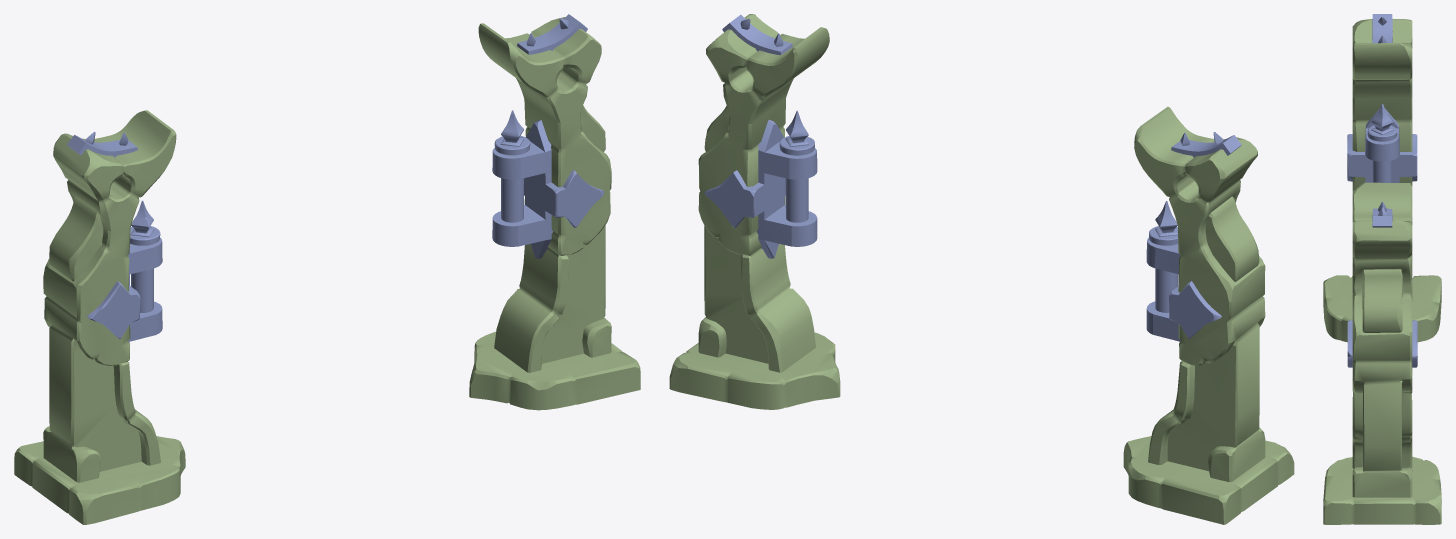
File: SM_Fence_Door_3.fbx
3 views of the same model, side by side, from view 1: azimuth 30°, elevation 25°; view 2: azimuth 150°, elevation 25°; view 3: azimuth 270°, elevation 25° (orthographic). The views are drawn at different scales.
Parts seen in each view (by area): view 1: SM_Fence_Door_3; view 2: SM_Fence_Door_3; view 3: SM_Fence_Door_3.
Part boxes in pixels (x1,y1,x2,y2): SM_Fence_Door_3: [14, 14, 640, 524]; SM_Fence_Door_3: [669, 14, 1294, 524]; SM_Fence_Door_3: [1323, 14, 1441, 524].
Bounding box in the file's own units: 248 × 152 × 54.53.
